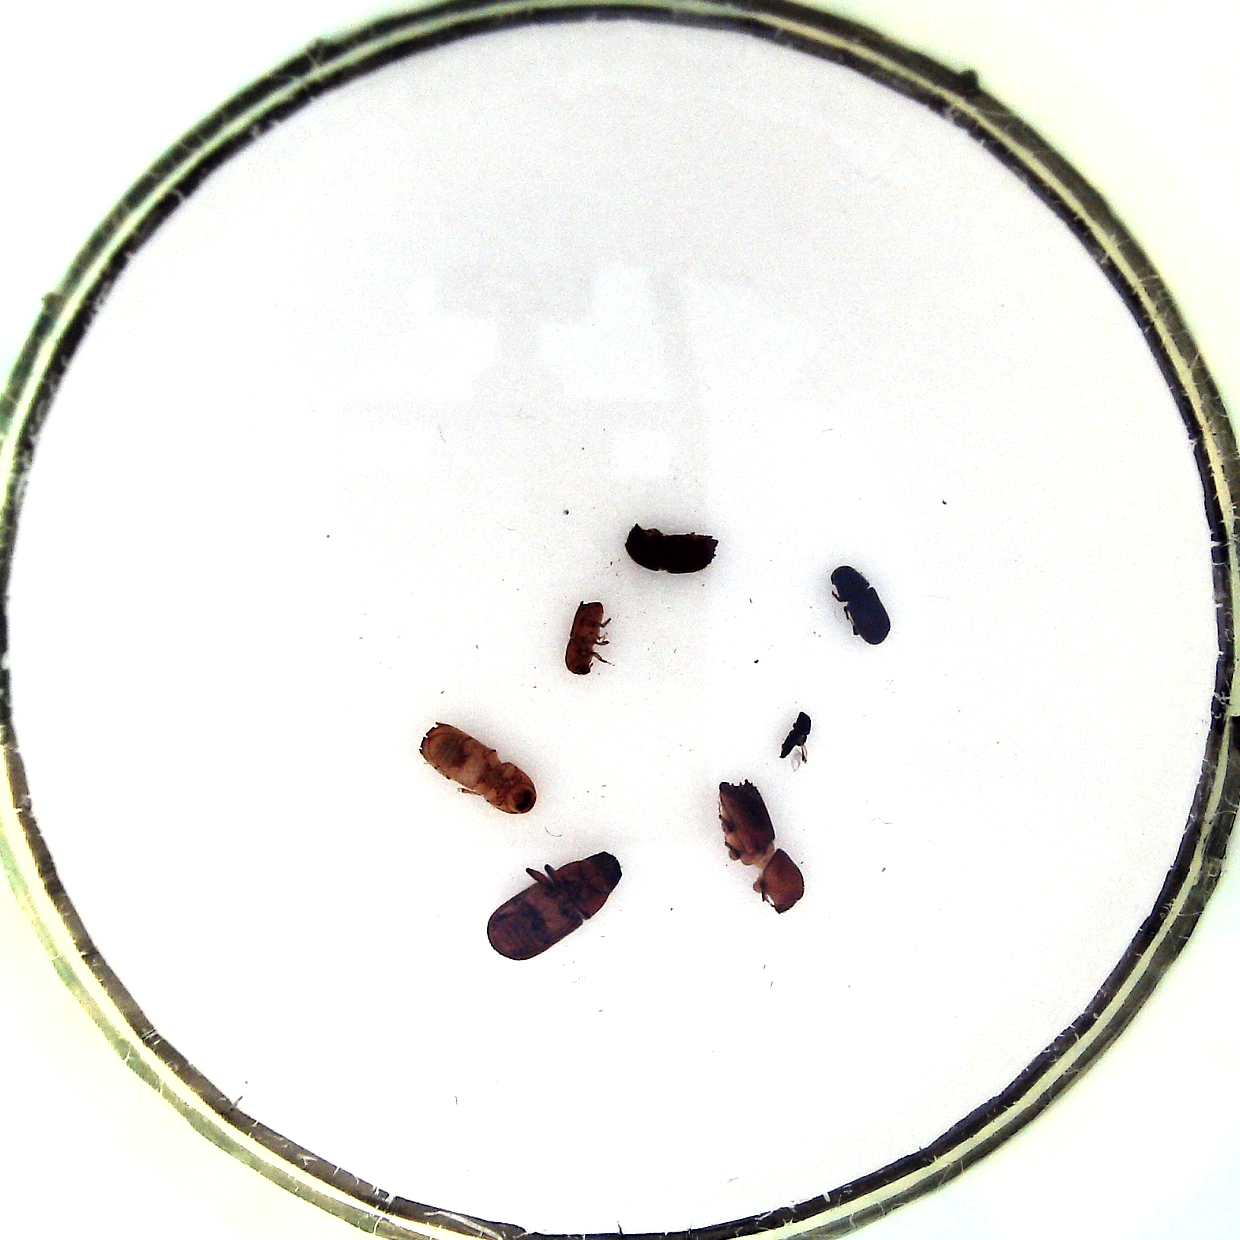Boerner: (713, 777, 810, 918), (413, 718, 541, 816)
Leconte: (483, 851, 625, 964)
Linnaeus: (623, 520, 724, 576)
acuminatus: (561, 600, 615, 679)
armandi: (828, 559, 895, 648)
coleoptera: (774, 707, 818, 771)
